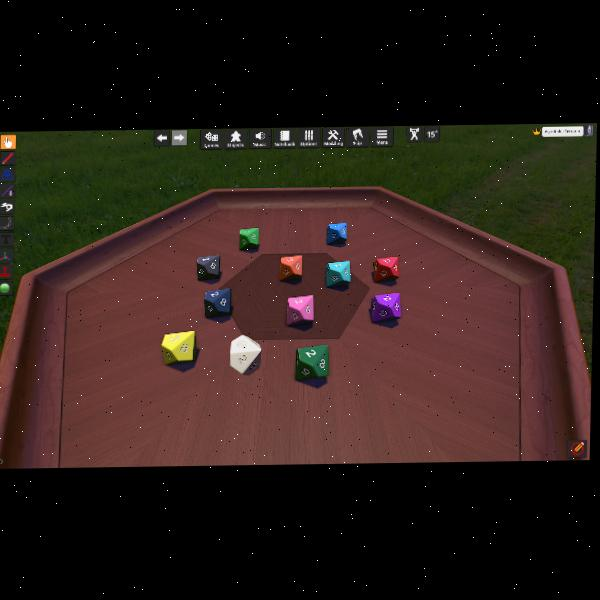d10: (229, 333, 263, 373), (293, 343, 327, 380), (162, 330, 198, 364), (371, 292, 401, 322), (204, 288, 232, 317), (286, 295, 312, 326), (373, 256, 399, 282), (326, 261, 350, 287), (196, 255, 220, 280), (279, 254, 301, 281), (326, 222, 347, 244), (239, 227, 258, 250)
